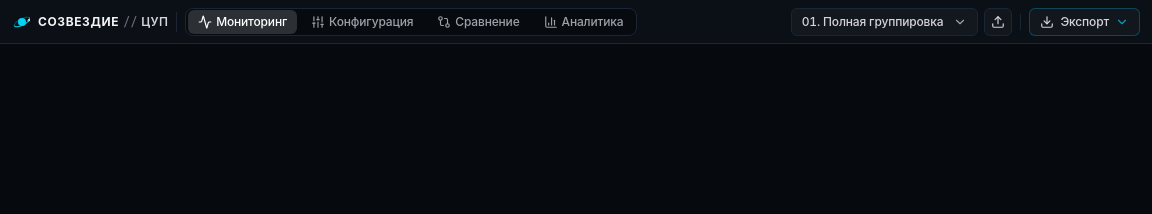
Test case: Header › opens custom preset dropdown on click and displays options
Expected: the text "01. Полная группировка" is shown, [802,14,943,30]
// Click trigger to open dropdown
Click the button "01. Полная группировка". click: x=885, y=22
box: [791,8,978,36]
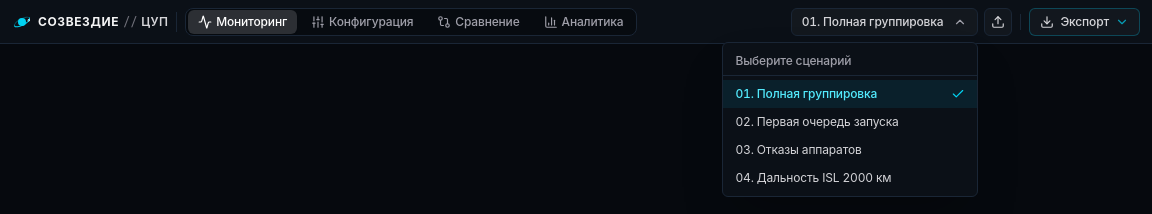
Expected: the text "Выберите сценарий" is shown, [723,46,977,76]
Expected: the text "02. Первая очередь запуска" is shown, [735,114,899,130]
